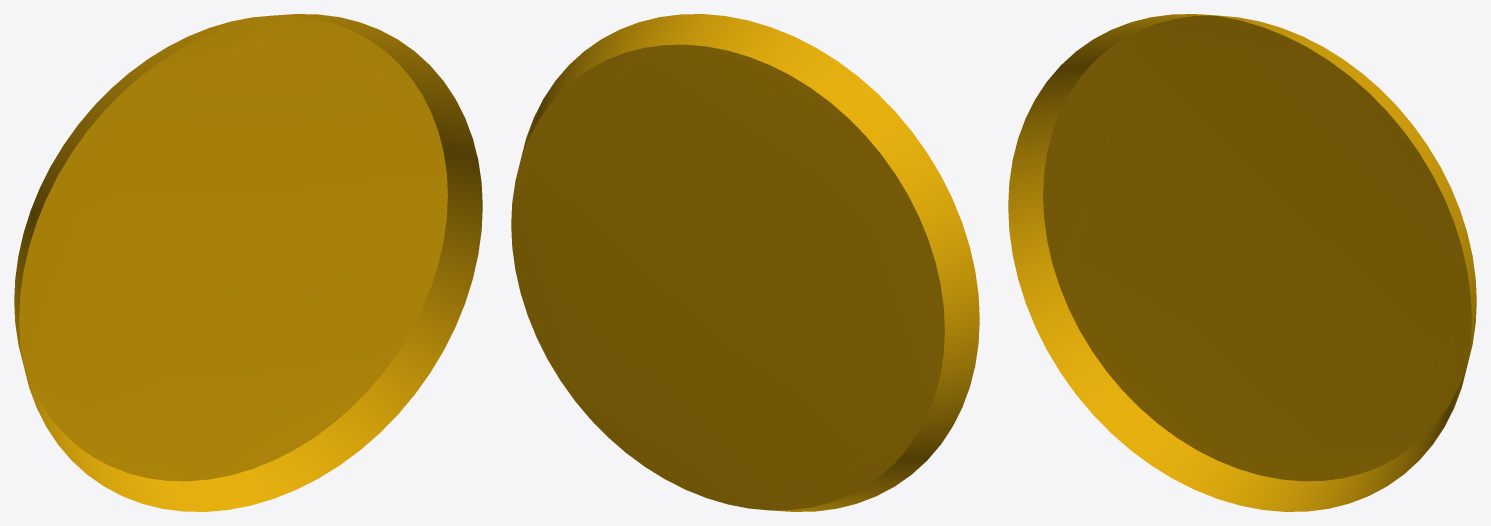
File: Coin.fbx
The picture shows the model from 3 angles, left to right: view 1: azimuth 30°, elevation 25°; view 2: azimuth 150°, elevation 25°; view 3: azimuth 330°, elevation 25°; orthographic projection.
Parts seen in each view (by area): view 1: Coin; view 2: Coin; view 3: Coin.
Part boxes in pixels (x1,y1,x2,y2): Coin: [14, 14, 482, 511]; Coin: [511, 14, 979, 511]; Coin: [1008, 14, 1476, 511].
Size of the model in its own units: 213 by 213 by 16.21.
